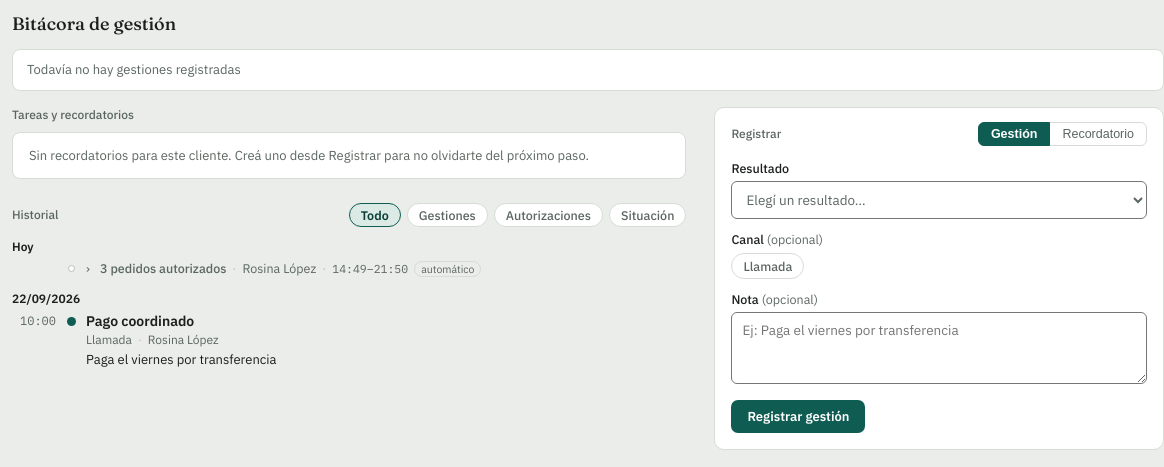
Test: BitacoraActividad — Bitácora v2 › junta los automáticos del mismo día en una fila y se despliega con el detalle
Expected: the text "Motivo: Cliente al día 2" is not shown
Click the button "› 3 pedidos autorizados·Rosina López·14:49–21:50 automático".
click(284, 268)  # box left=86, top=260, right=482, bottom=276
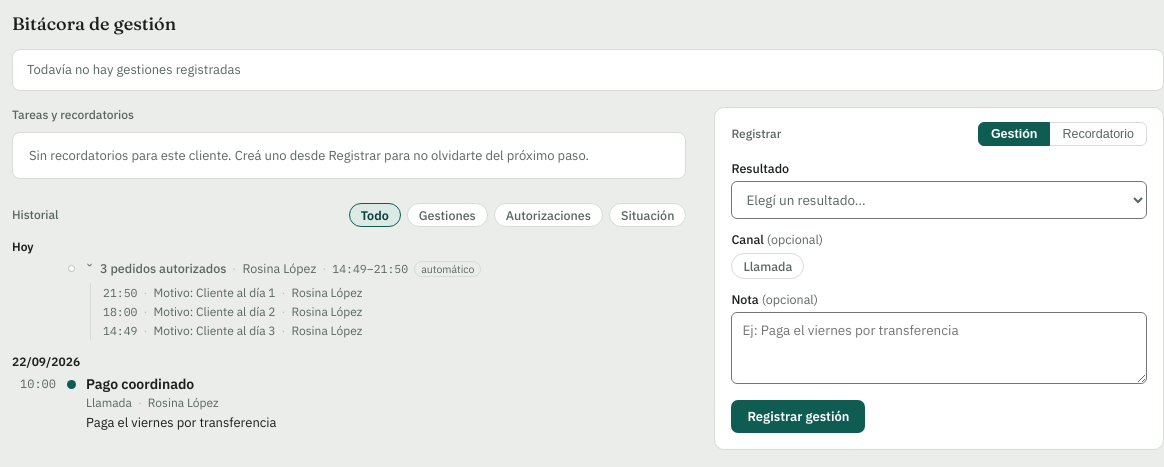
Expected: the text "Paga el viernes por transferencia" is shown, left=86, top=414, right=276, bottom=430
Expected: the button "› 3 pedidos autorizados·Rosina López·14:49–21:50 automático" is expanded, left=86, top=260, right=482, bottom=276
Expected: the text "Motivo: Cliente al día 2" is shown, left=153, top=304, right=276, bottom=318
